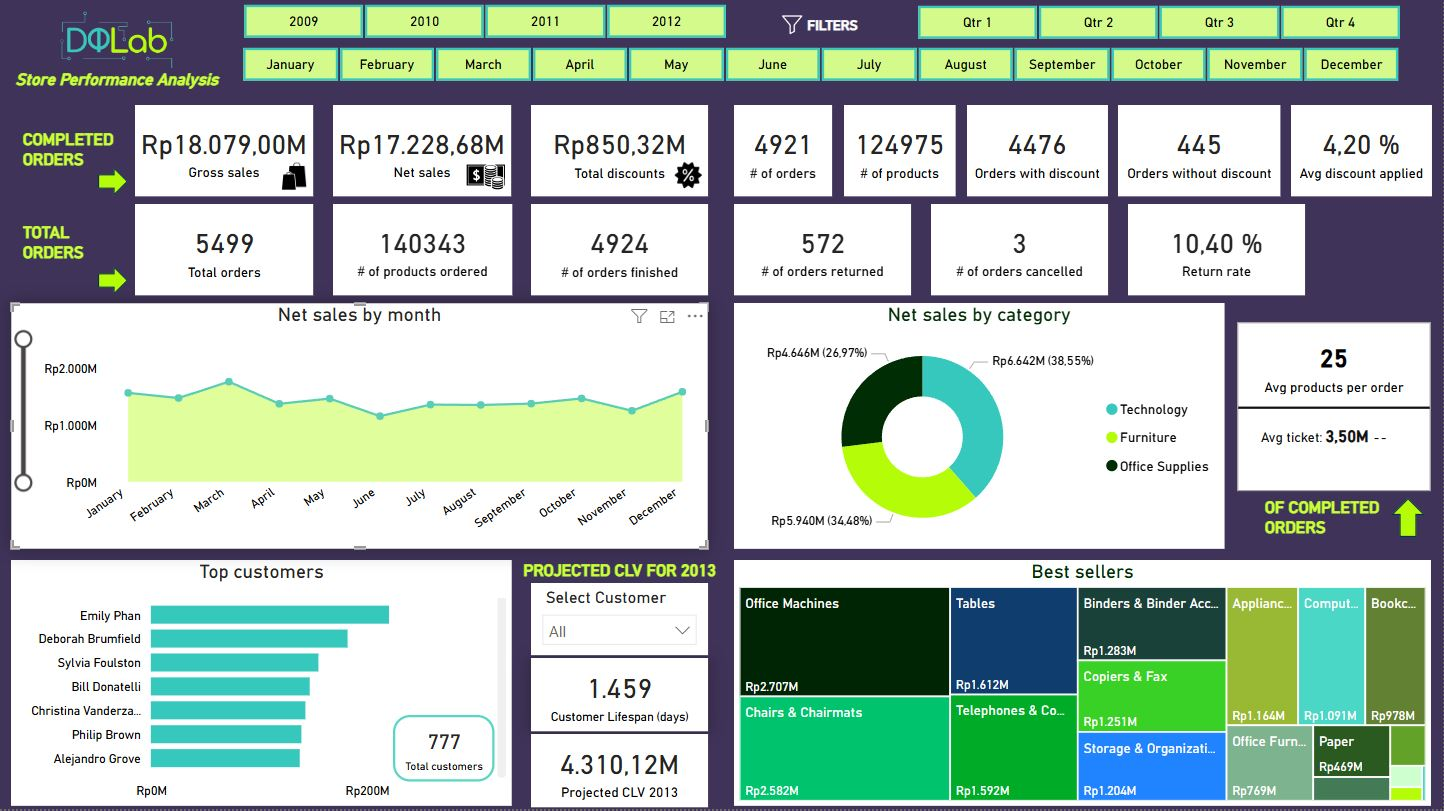

This screenshot's page, from the dashboard's own definition file:
{"tool":"powerbi","page":{"name":"DQLab Sales Analysis","canvas":[1280,720],"ordinal":0},"visuals":[{"type":"card","fields":{"Values":["clean_data.Net Sales"]},"box":[296.1,95.8,157.8,80.7],"z":0},{"type":"card","fields":{"Values":["clean_data.Suma Descuentos"]},"box":[471.6,95.8,156.9,80.7],"z":1000},{"type":"slicer","fields":{"Values":["Calendar.Date.Variation.Date Hierarchy.Quarter"]},"box":[789.2,0.9,476.9,39],"z":2000},{"type":"slicer","fields":{"Values":["Calendar.Date.Variation.Date Hierarchy.Year"]},"box":[191.5,0,476.9,38.1],"z":3000},{"type":"areaChart","title":"Net sales by month","fields":{"Y":["Sum(clean_data.sales)"],"Category":["Calendar.Date.Variation.Date Hierarchy.Month"]},"box":[10.2,271.4,618.2,218.4],"z":4000},{"type":"card","fields":{"Values":["clean_data.Total Orders"]},"box":[131.1,183.1,146.9,80.9],"z":5000},{"type":"card","fields":{"Values":["clean_data.# of Orders Completed"]},"box":[471.6,182.7,156.9,81.6],"z":6000},{"type":"card","fields":{"Values":["clean_data.# of Orders Returned"]},"box":[651.6,182.7,156.9,81.6],"z":7000},{"type":"card","fields":{"Values":["clean_data.# of Orders Cancelled"]},"box":[826.3,182.7,156.9,81.6],"z":8000},{"type":"card","fields":{"Values":["clean_data.Avg Discount Applied"]},"box":[651.6,95.8,156.9,80.7],"z":9000},{"type":"image","box":[27.9,8.4,154.3,60.4],"z":10000},{"type":"donutChart","title":"Net sales by category","fields":{"Category":["clean_data.product_category"],"Y":["Sum(clean_data.sales)"]},"box":[651.6,271.4,435,218.4],"z":11000},{"type":"treemap","title":"Best sellers","fields":{"Group":["clean_data.product_sub_category"],"Values":["Sum(clean_data.sales)"]},"box":[651.6,499.2,618.2,218.4],"z":12000},{"type":"clusteredBarChart","title":"Top customers","fields":{"Category":["clean_data.customer"],"Y":["Sum(clean_data.sales)"]},"box":[10.2,499.2,444.3,218.4],"z":13000},{"type":"cardVisual","fields":{"Data":["clean_data.Product Ticket Medio"]},"box":[1098.7,304.9,171,151.5],"z":14000},{"type":"card","fields":{"Values":["clean_data.Total Products Ordered"]},"box":[296.5,183.1,158,80.9],"z":15000},{"type":"card","fields":{"Values":["clean_data.gross_sales"]},"box":[131.1,95.8,147.2,80.7],"z":16000},{"type":"image","box":[414.6,136.6,39,44.6],"z":17000},{"type":"image","box":[593.1,141.3,35.3,34.4],"z":18000},{"type":"image","box":[236,178.4,42.8,47.3],"z":19000},{"type":"slicer","fields":{"Values":["Calendar.Date.Variation.Date Hierarchy.Month"]},"box":[191,38.2,1074.4,41.8],"z":20000},{"type":"textbox","box":[689.6,10.9,98.3,42.8],"z":21000},{"type":"card","fields":{"Values":["clean_data.Discount Orders"]},"box":[826.3,95.8,156.9,80.7],"z":22000},{"type":"image","box":[685.9,10.9,33.7,28.2],"z":23000},{"type":"card","fields":{"Values":["clean_data.No Discount Orders"]},"box":[1001.1,95.7,157.1,80.9],"z":24000},{"type":"card","fields":{"Values":["clean_data.Return Rate"]},"box":[1001.1,183.1,157.1,80.9],"z":25000},{"type":"card","fields":{"Values":["clean_data.Avg Customer Lifespan"]},"box":[471.3,586.6,157.1,64.1],"z":26000},{"type":"card","fields":{"Values":["clean_data.CLV"]},"box":[471.3,653.5,157.1,64.1],"z":27000},{"type":"textbox","box":[0,59.5,209.2,40.9],"z":28000},{"type":"slicer","fields":{"Values":["clean_data.customer"]},"box":[471.3,519.6,157.1,64.1],"z":29000},{"type":"textbox","box":[451.8,495.5,196.1,40.9],"z":30000}]}

Visuals, with their boxes in screenshot pixels (x1, y1, x2, y2), scaled from the page's 1280x720 canvas onto the 1444x811 screenshot:
card - clean_data.Net Sales: <bbox>334, 108, 512, 199</bbox>
card - clean_data.Suma Descuentos: <bbox>532, 108, 709, 199</bbox>
slicer - Calendar.Date.Variation.Date Hierarchy.Quarter: <bbox>890, 1, 1428, 45</bbox>
slicer - Calendar.Date.Variation.Date Hierarchy.Year: <bbox>216, 0, 754, 43</bbox>
"Net sales by month" areaChart: <bbox>12, 306, 709, 552</bbox>
card - clean_data.Total Orders: <bbox>148, 206, 314, 297</bbox>
card - clean_data.# of Orders Completed: <bbox>532, 206, 709, 298</bbox>
card - clean_data.# of Orders Returned: <bbox>735, 206, 912, 298</bbox>
card - clean_data.# of Orders Cancelled: <bbox>932, 206, 1109, 298</bbox>
card - clean_data.Avg Discount Applied: <bbox>735, 108, 912, 199</bbox>
image: <bbox>31, 9, 206, 77</bbox>
"Net sales by category" donutChart: <bbox>735, 306, 1226, 552</bbox>
"Best sellers" treemap: <bbox>735, 562, 1432, 808</bbox>
"Top customers" clusteredBarChart: <bbox>12, 562, 513, 808</bbox>
cardVisual - clean_data.Product Ticket Medio: <bbox>1239, 343, 1432, 514</bbox>
card - clean_data.Total Products Ordered: <bbox>334, 206, 513, 297</bbox>
card - clean_data.gross_sales: <bbox>148, 108, 314, 199</bbox>
image: <bbox>468, 154, 512, 204</bbox>
image: <bbox>669, 159, 709, 198</bbox>
image: <bbox>266, 201, 315, 254</bbox>
slicer - Calendar.Date.Variation.Date Hierarchy.Month: <bbox>215, 43, 1428, 90</bbox>
textbox: <bbox>778, 12, 889, 60</bbox>
card - clean_data.Discount Orders: <bbox>932, 108, 1109, 199</bbox>
image: <bbox>774, 12, 812, 44</bbox>
card - clean_data.No Discount Orders: <bbox>1129, 108, 1307, 199</bbox>
card - clean_data.Return Rate: <bbox>1129, 206, 1307, 297</bbox>
card - clean_data.Avg Customer Lifespan: <bbox>532, 661, 709, 733</bbox>
card - clean_data.CLV: <bbox>532, 736, 709, 808</bbox>
textbox: <bbox>0, 67, 236, 113</bbox>
slicer - clean_data.customer: <bbox>532, 585, 709, 657</bbox>
textbox: <bbox>510, 558, 731, 604</bbox>
